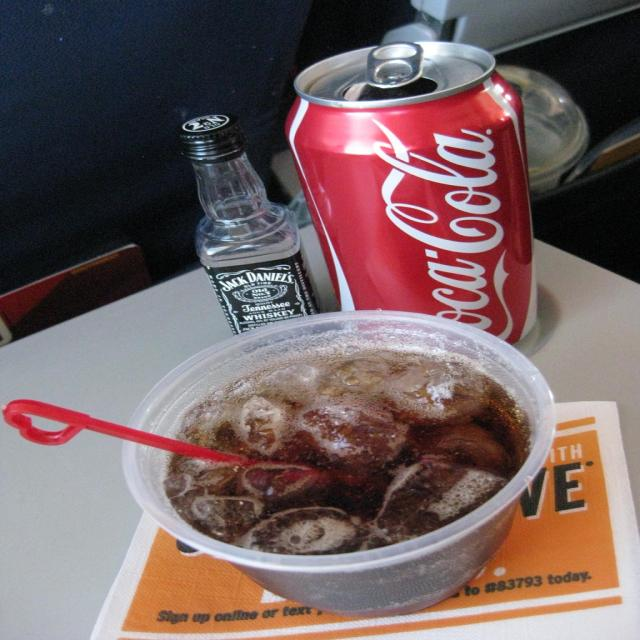cocacola: (355, 113, 524, 348)
